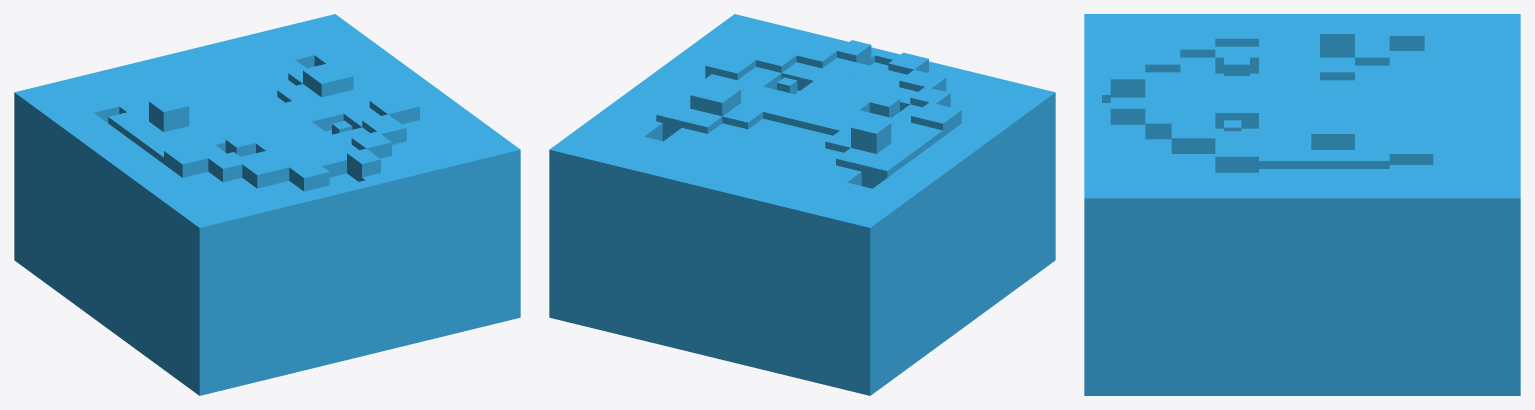
File: Cube_Blue_Fox.fbx
3 renders of one model, left to right at view 1: azimuth 30°, elevation 25°; view 2: azimuth 150°, elevation 25°; view 3: azimuth 270°, elevation 25°, orthographic. The views are drawn at different scales.
Parts seen in each view (by area): view 1: _9; view 2: _9; view 3: _9.
Part boxes in pixels (x1,y1,x2,y2): _9: [14, 14, 520, 395]; _9: [549, 14, 1055, 395]; _9: [1084, 14, 1520, 395].
Size of the model in its own units: 50 by 29 by 50.
